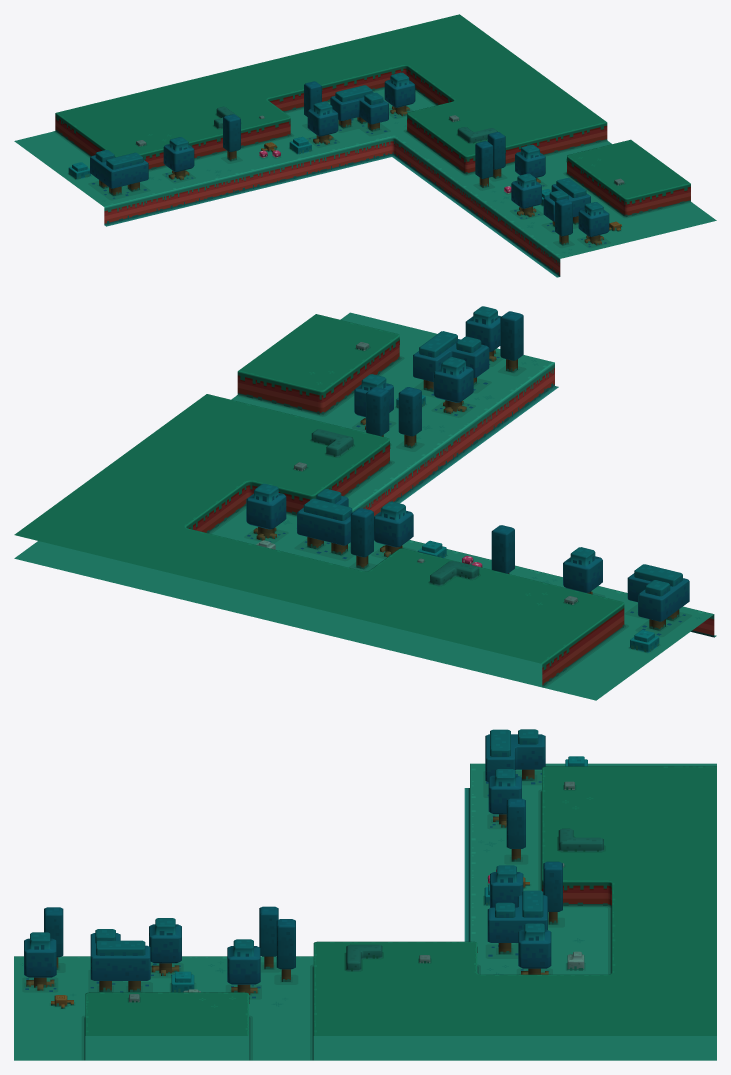
Rendered from C_forest1_out_LD.fbx.
3 renders of one model, top to bottom at view 1: azimuth 30°, elevation 25°; view 2: azimuth 150°, elevation 25°; view 3: azimuth 270°, elevation 25°, orthographic. The views are drawn at different scales.
Parts seen in each view (by area): view 1: C_forest1_out_LD; view 2: C_forest1_out_LD; view 3: C_forest1_out_LD.
Boxes of the visible parts, left/top/right/bottom form: C_forest1_out_LD: left=14, top=14, right=716, bottom=277; C_forest1_out_LD: left=14, top=306, right=716, bottom=700; C_forest1_out_LD: left=14, top=729, right=716, bottom=1060.
Bounding box in the file's own units: 117 × 15.19 × 117.
